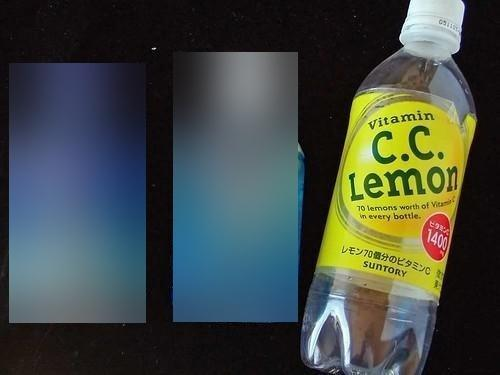bottle-plastic: (299, 1, 481, 374)
